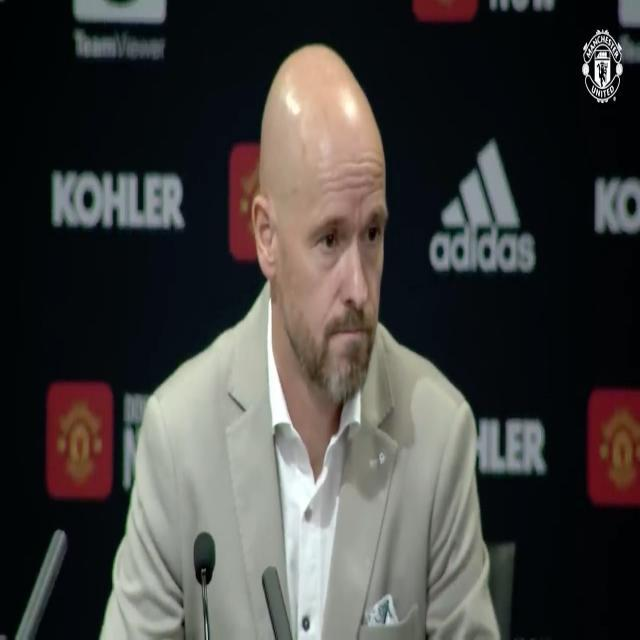Adidas: (430, 140, 535, 273)
Kohler: (52, 171, 184, 230)
TeamViewer: (74, 1, 166, 59)
